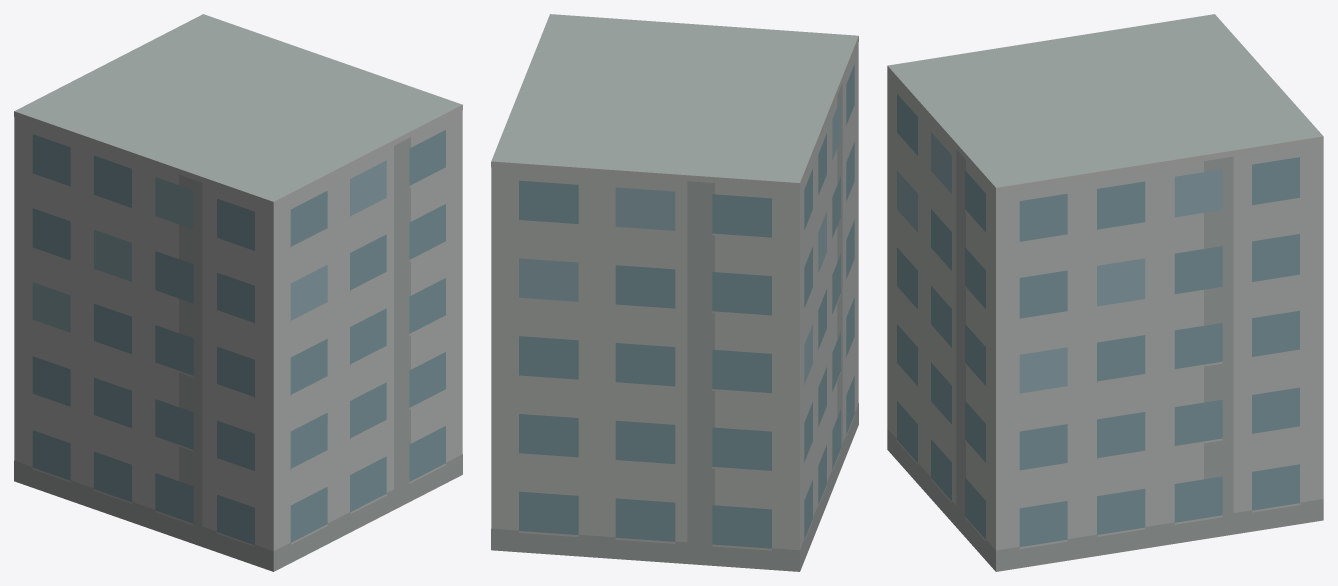
File: survey-upis-32847405.glb
3 views of the same model, side by side, from view 1: azimuth 30°, elevation 25°; view 2: azimuth 150°, elevation 25°; view 3: azimuth 270°, elevation 25° (orthographic). The views are drawn at different scales.
Visible parts, largest first — view 1: survey-upis-32847405.tmp; view 2: survey-upis-32847405.tmp; view 3: survey-upis-32847405.tmp.
Part boxes in pixels (<box>): survey-upis-32847405.tmp: <box>14,14,462,571</box>; survey-upis-32847405.tmp: <box>491,14,858,571</box>; survey-upis-32847405.tmp: <box>887,14,1323,571</box>.
Size of the model in its own units: 15.35 by 15.8 by 16.27.
